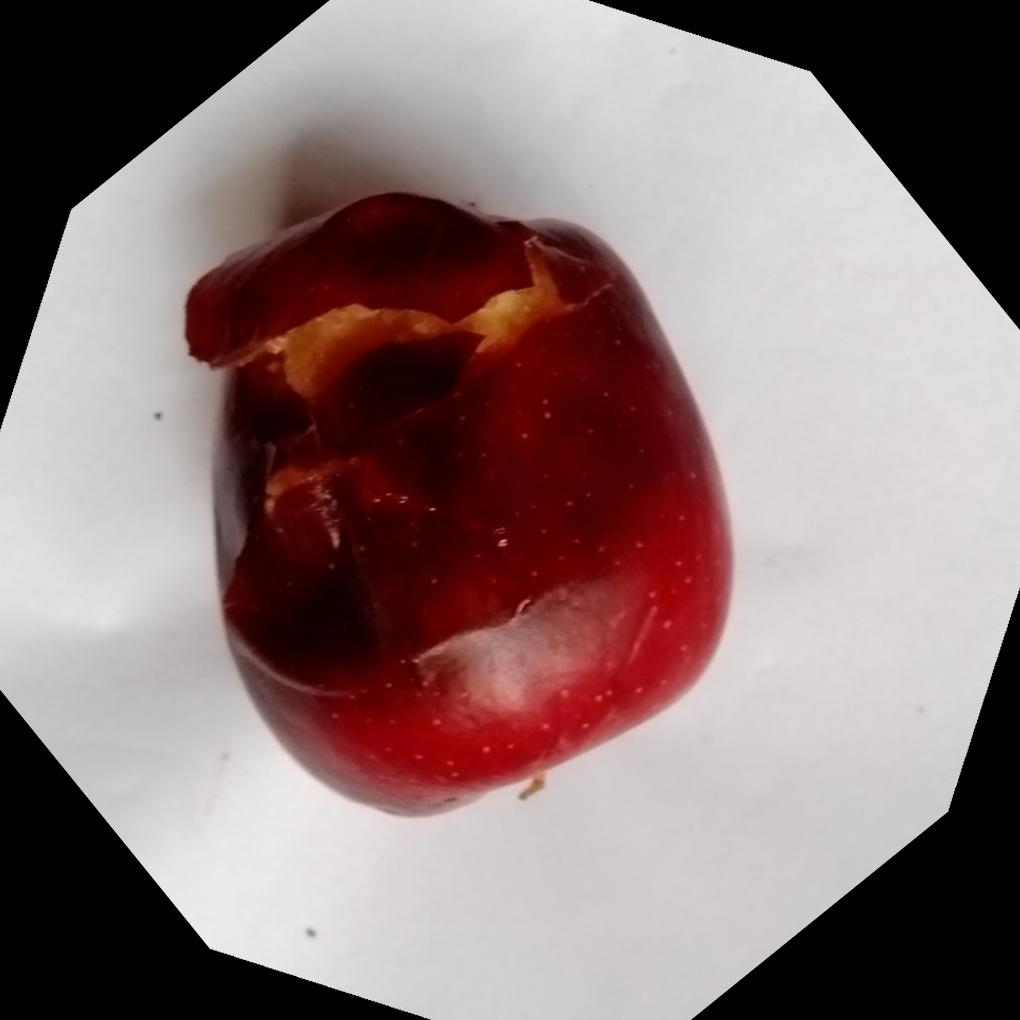FreshOrange: (178, 189, 734, 822)
